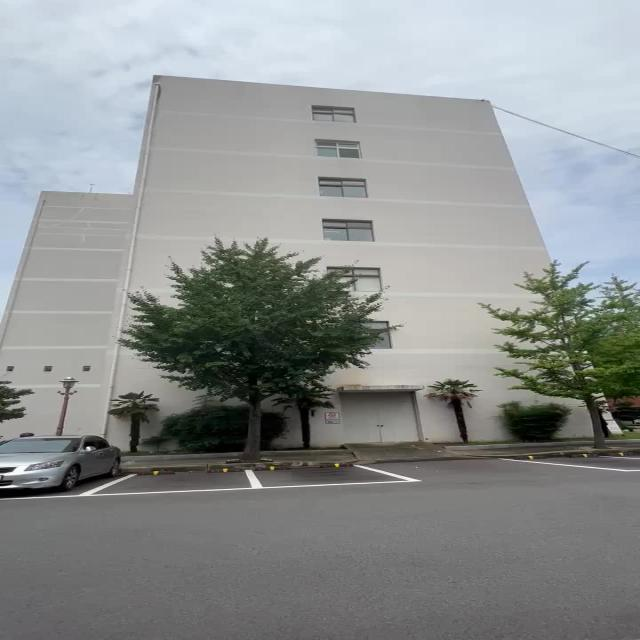building: (78, 69, 542, 254)
